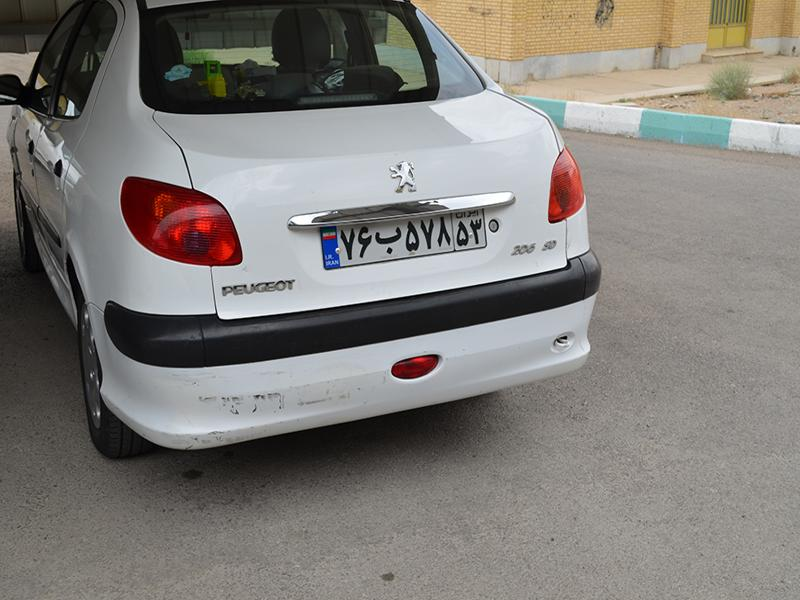Plate: (312, 213, 497, 264)
